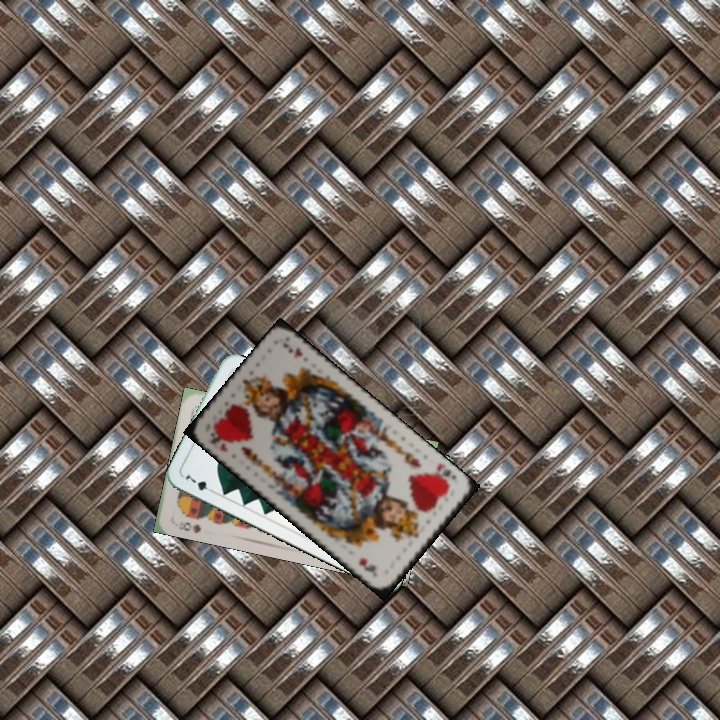G7: (180, 471, 218, 496)
HK: (432, 459, 459, 490), (204, 429, 231, 454)
S8: (175, 518, 204, 536)
